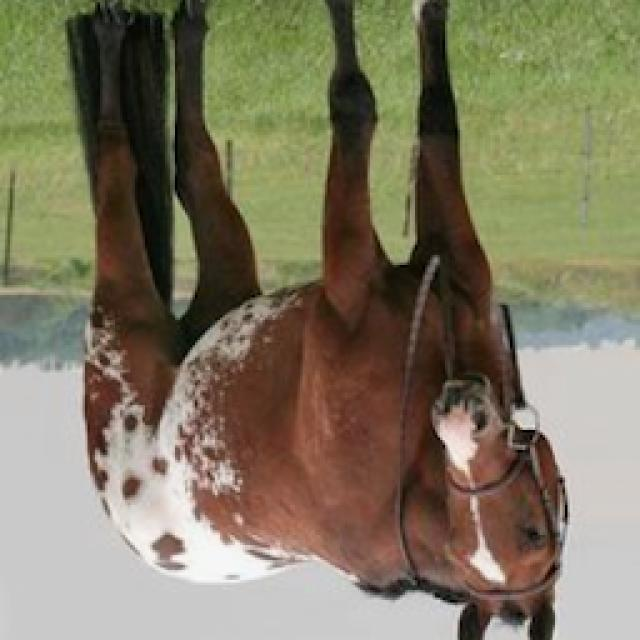Horse: (55, 2, 578, 640)
